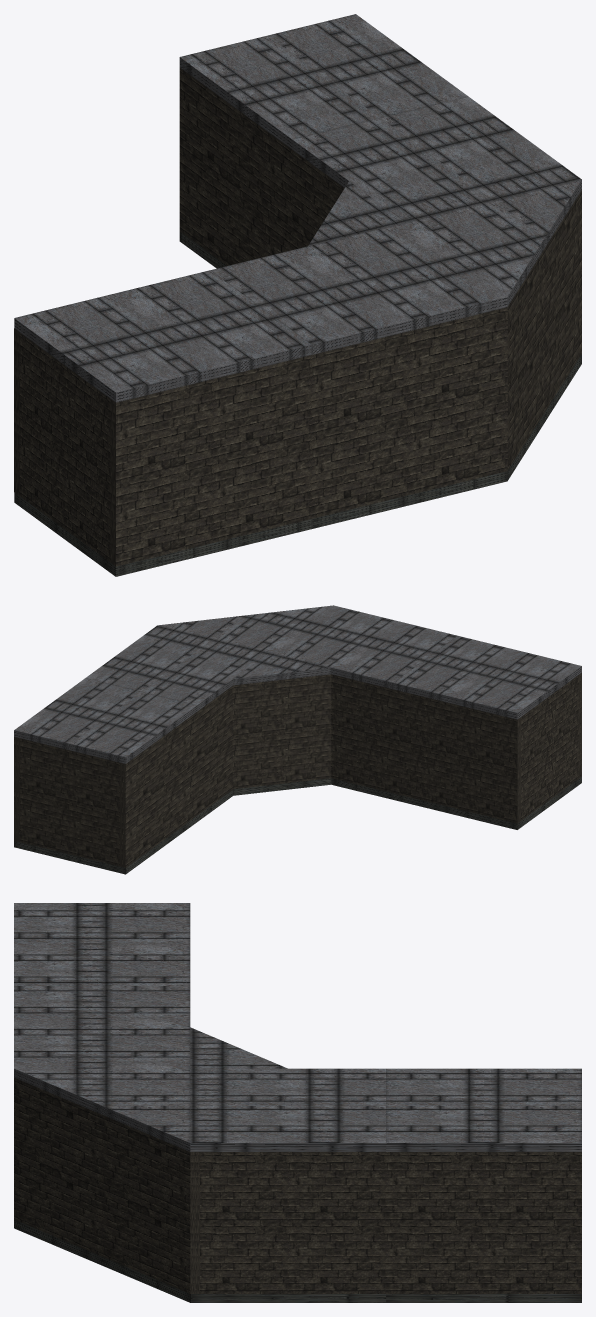
The model's file is curvedhall.fbx.
The picture shows the model from 3 angles, top to bottom: view 1: azimuth 30°, elevation 25°; view 2: azimuth 150°, elevation 25°; view 3: azimuth 270°, elevation 25°; orthographic projection. The views are drawn at different scales.
Parts seen in each view (by area): view 1: rOOF, Cube, Wall4, Opening1, Floor, Wall3; view 2: rOOF, Wall3, Wall4, Opening2, Opening1, Floor, Wall2, Cube; view 3: rOOF, Wall2, Cube, Floor.
Part boxes in pixels (x1,y1,x2,y2): rOOF: (14,14,581,402); Cube: (110,190,581,566); Wall4: (179,67,344,265); Opening1: (19,332,110,562); Floor: (14,231,581,576); Wall3: (14,328,19,495); rOOF: (14,605,581,763); Wall3: (233,674,520,823); Wall4: (119,685,233,867); Opening2: (20,738,119,866); Opening1: (521,675,578,820); Floor: (14,777,581,874); Wall2: (14,737,20,841); Cube: (578,673,581,778); rOOF: (14,903,581,1151); Wall2: (190,1152,581,1293); Cube: (14,1077,199,1293); Floor: (14,1219,581,1302).
Size of what is drawn, in the model's own units: 2901 by 900 by 2900.
